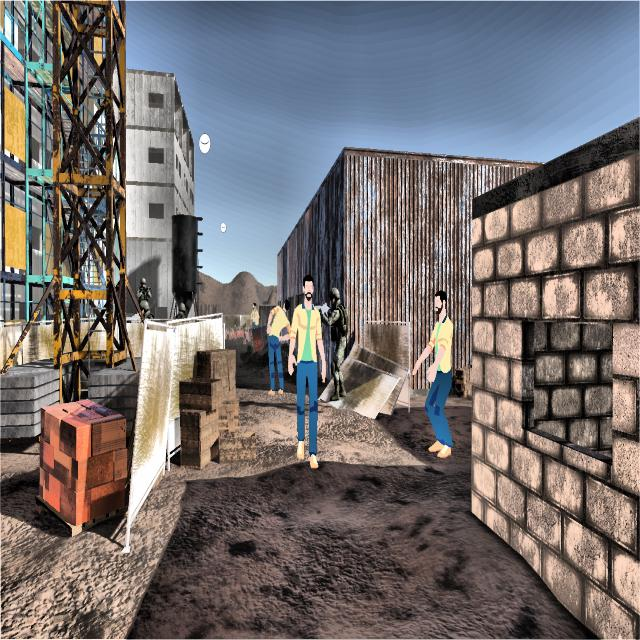bad: (324, 282, 350, 406), (131, 271, 152, 306), (133, 295, 154, 327), (176, 295, 187, 325)
good: (284, 269, 328, 485), (416, 280, 458, 462), (260, 273, 292, 402), (247, 289, 262, 331)
